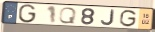1: (46, 5, 57, 25)
8: (81, 7, 96, 26)
G: (18, 4, 38, 24), (119, 9, 138, 28)
J: (100, 9, 116, 26)
Q: (58, 7, 78, 24)
